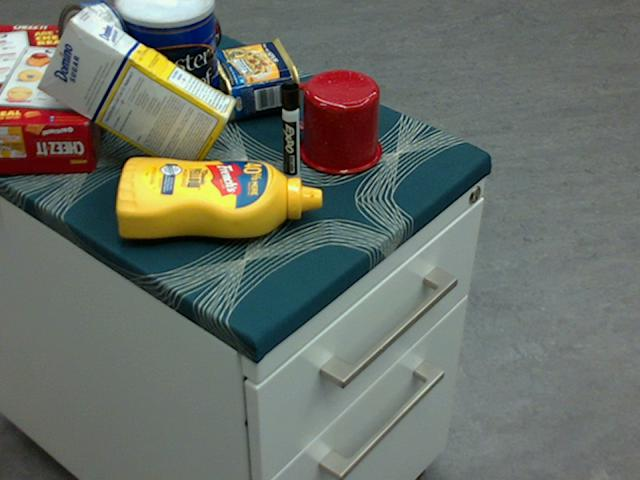cracker_box: (0, 27, 111, 173)
gelatin_box: (89, 0, 177, 54)
large_marker: (281, 79, 299, 187)
master_chef_can: (116, 0, 218, 137)
mug: (284, 69, 380, 174)
mustard_bottle: (115, 158, 322, 238)
potted_meat_can: (208, 37, 301, 119)
sugar_box: (38, 9, 238, 176)
tomato_soup_can: (126, 0, 221, 83)
tuna_fish_can: (58, 0, 130, 86)
